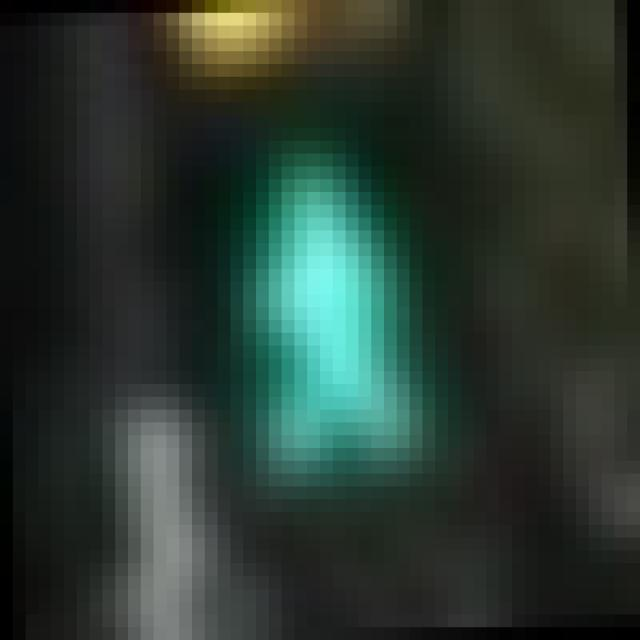geen-crossing: (141, 77, 448, 525)
